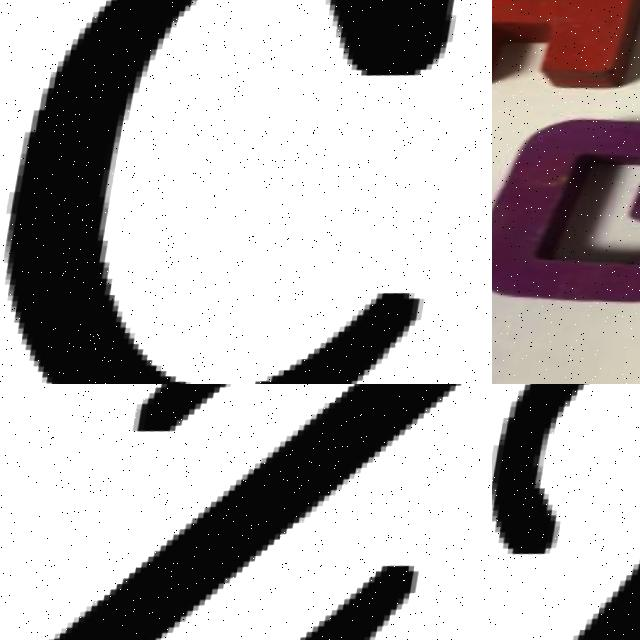2: (492, 384, 640, 640)
A: (492, 0, 640, 99)
C: (7, 0, 221, 384)
G: (492, 97, 640, 327)
Z: (0, 384, 492, 640)
